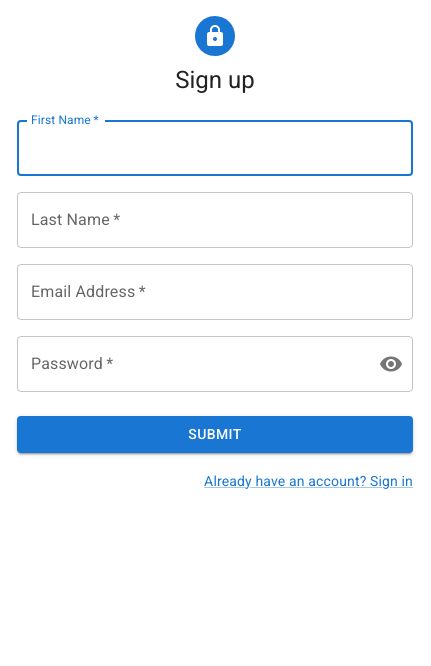
Test case: input first name
In the field labelled "First Name *": (215, 148) [17,120,413,176], type "Quang"
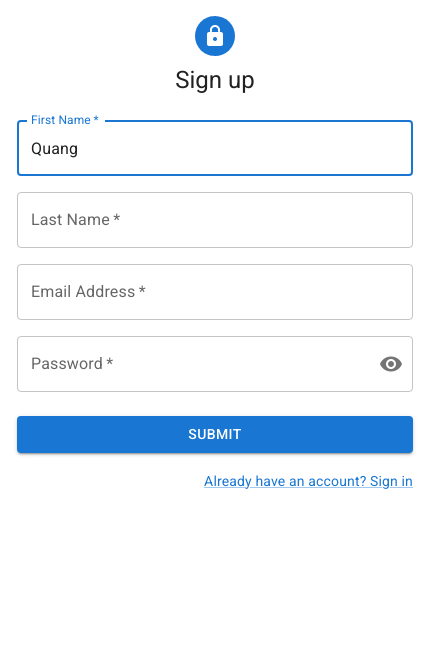
Click the button "Submit": (215, 434) [17,416,413,452]
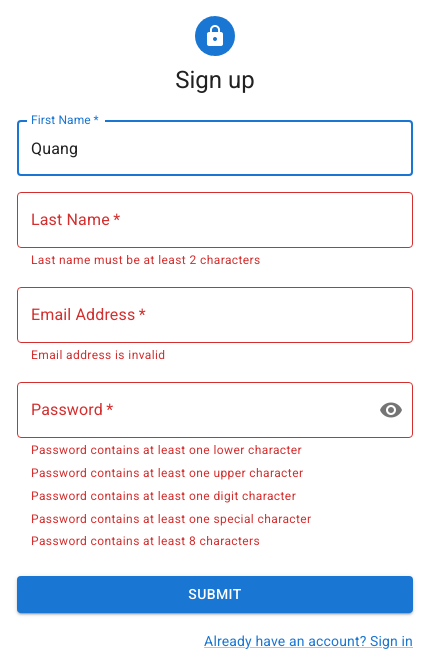
Check: the text "Last name must be at least 2 characters" is shown, box [31,253,261,267]
Check: the text "Email address is invalid" is shown, box [31,348,166,362]
Check: the text "Password contains at least one lower character" is shown, box [31,443,302,457]
